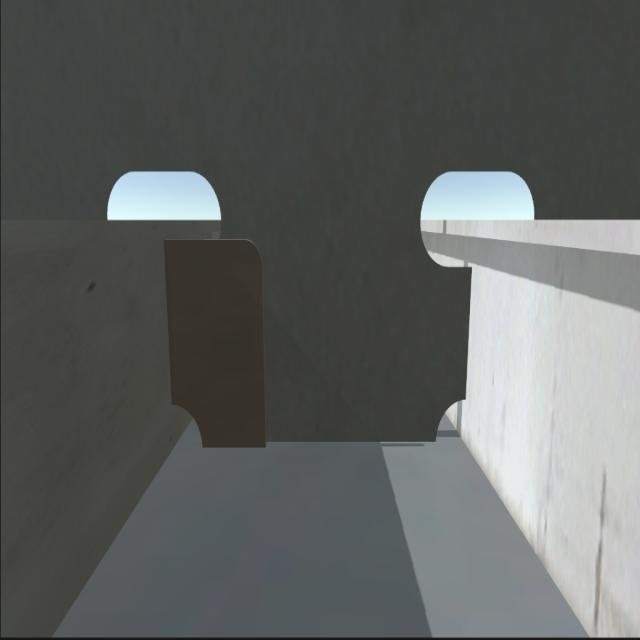fillet_hole: (165, 402, 208, 456), (465, 265, 473, 410)
fillet_yong_jeop_jang: (202, 433, 436, 448)
longi_yong_jeop_jang: (161, 238, 177, 407)
plate_CP05: (161, 232, 268, 447), (431, 386, 473, 450)
